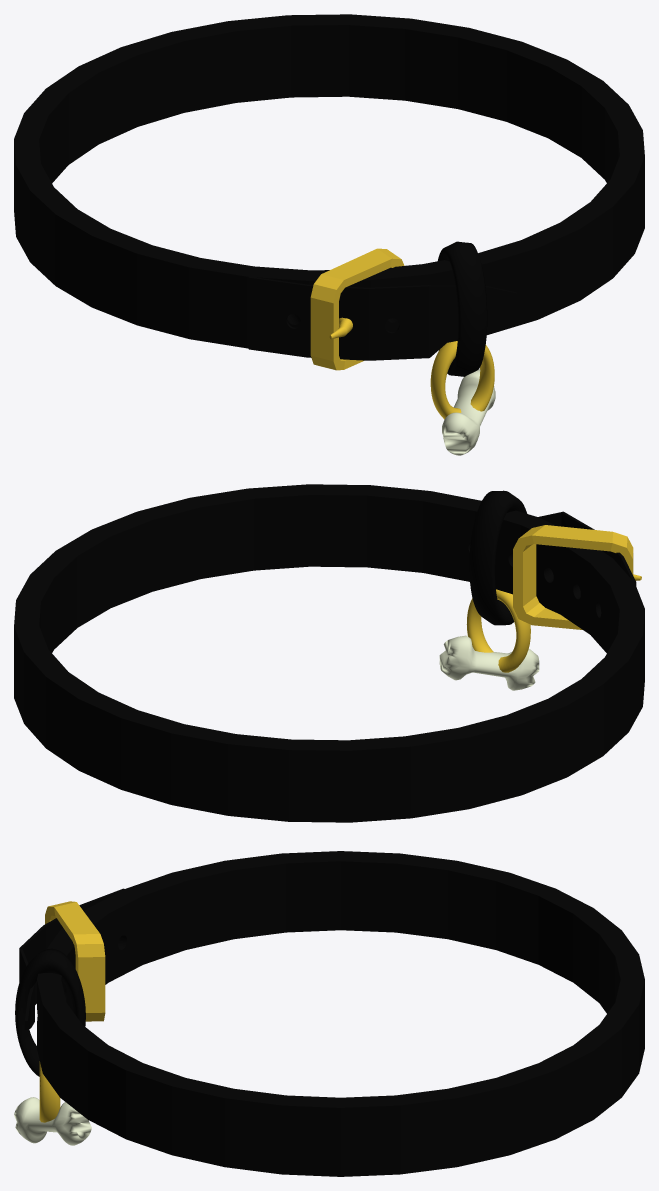
File: T1Artifact.fbx
3 views of the same model, one above another, from view 1: azimuth 30°, elevation 25°; view 2: azimuth 150°, elevation 25°; view 3: azimuth 270°, elevation 25° (orthographic). The views are drawn at different scales.
Visible parts, largest first — view 1: Collar, Strap, Lock, Loop, Bone, GoldLoop; view 2: Collar, Lock, Loop, Bone, GoldLoop, Strap; view 3: Collar, Lock, Loop, Bone, Strap, GoldLoop.
Part boxes in pixels (<box>): Collar: <box>14,14,644,348</box>; Strap: <box>248,277,517,360</box>; Lock: <box>310,248,404,370</box>; Loop: <box>438,241,487,376</box>; Bone: <box>442,369,495,455</box>; GoldLoop: <box>430,341,494,419</box>; Collar: <box>14,484,644,822</box>; Lock: <box>513,525,633,629</box>; Loop: <box>469,490,527,625</box>; Bone: <box>439,635,539,690</box>; GoldLoop: <box>466,589,530,672</box>; Strap: <box>538,511,636,585</box>; Collar: <box>37,851,644,1176</box>; Lock: <box>45,901,105,1021</box>; Loop: <box>15,948,85,1076</box>; Bone: <box>14,1097,91,1145</box>; Strap: <box>19,888,124,1029</box>; GoldLoop: <box>39,1061,60,1122</box>.
Size of the model in its own units: 200 by 70.34 by 208.
